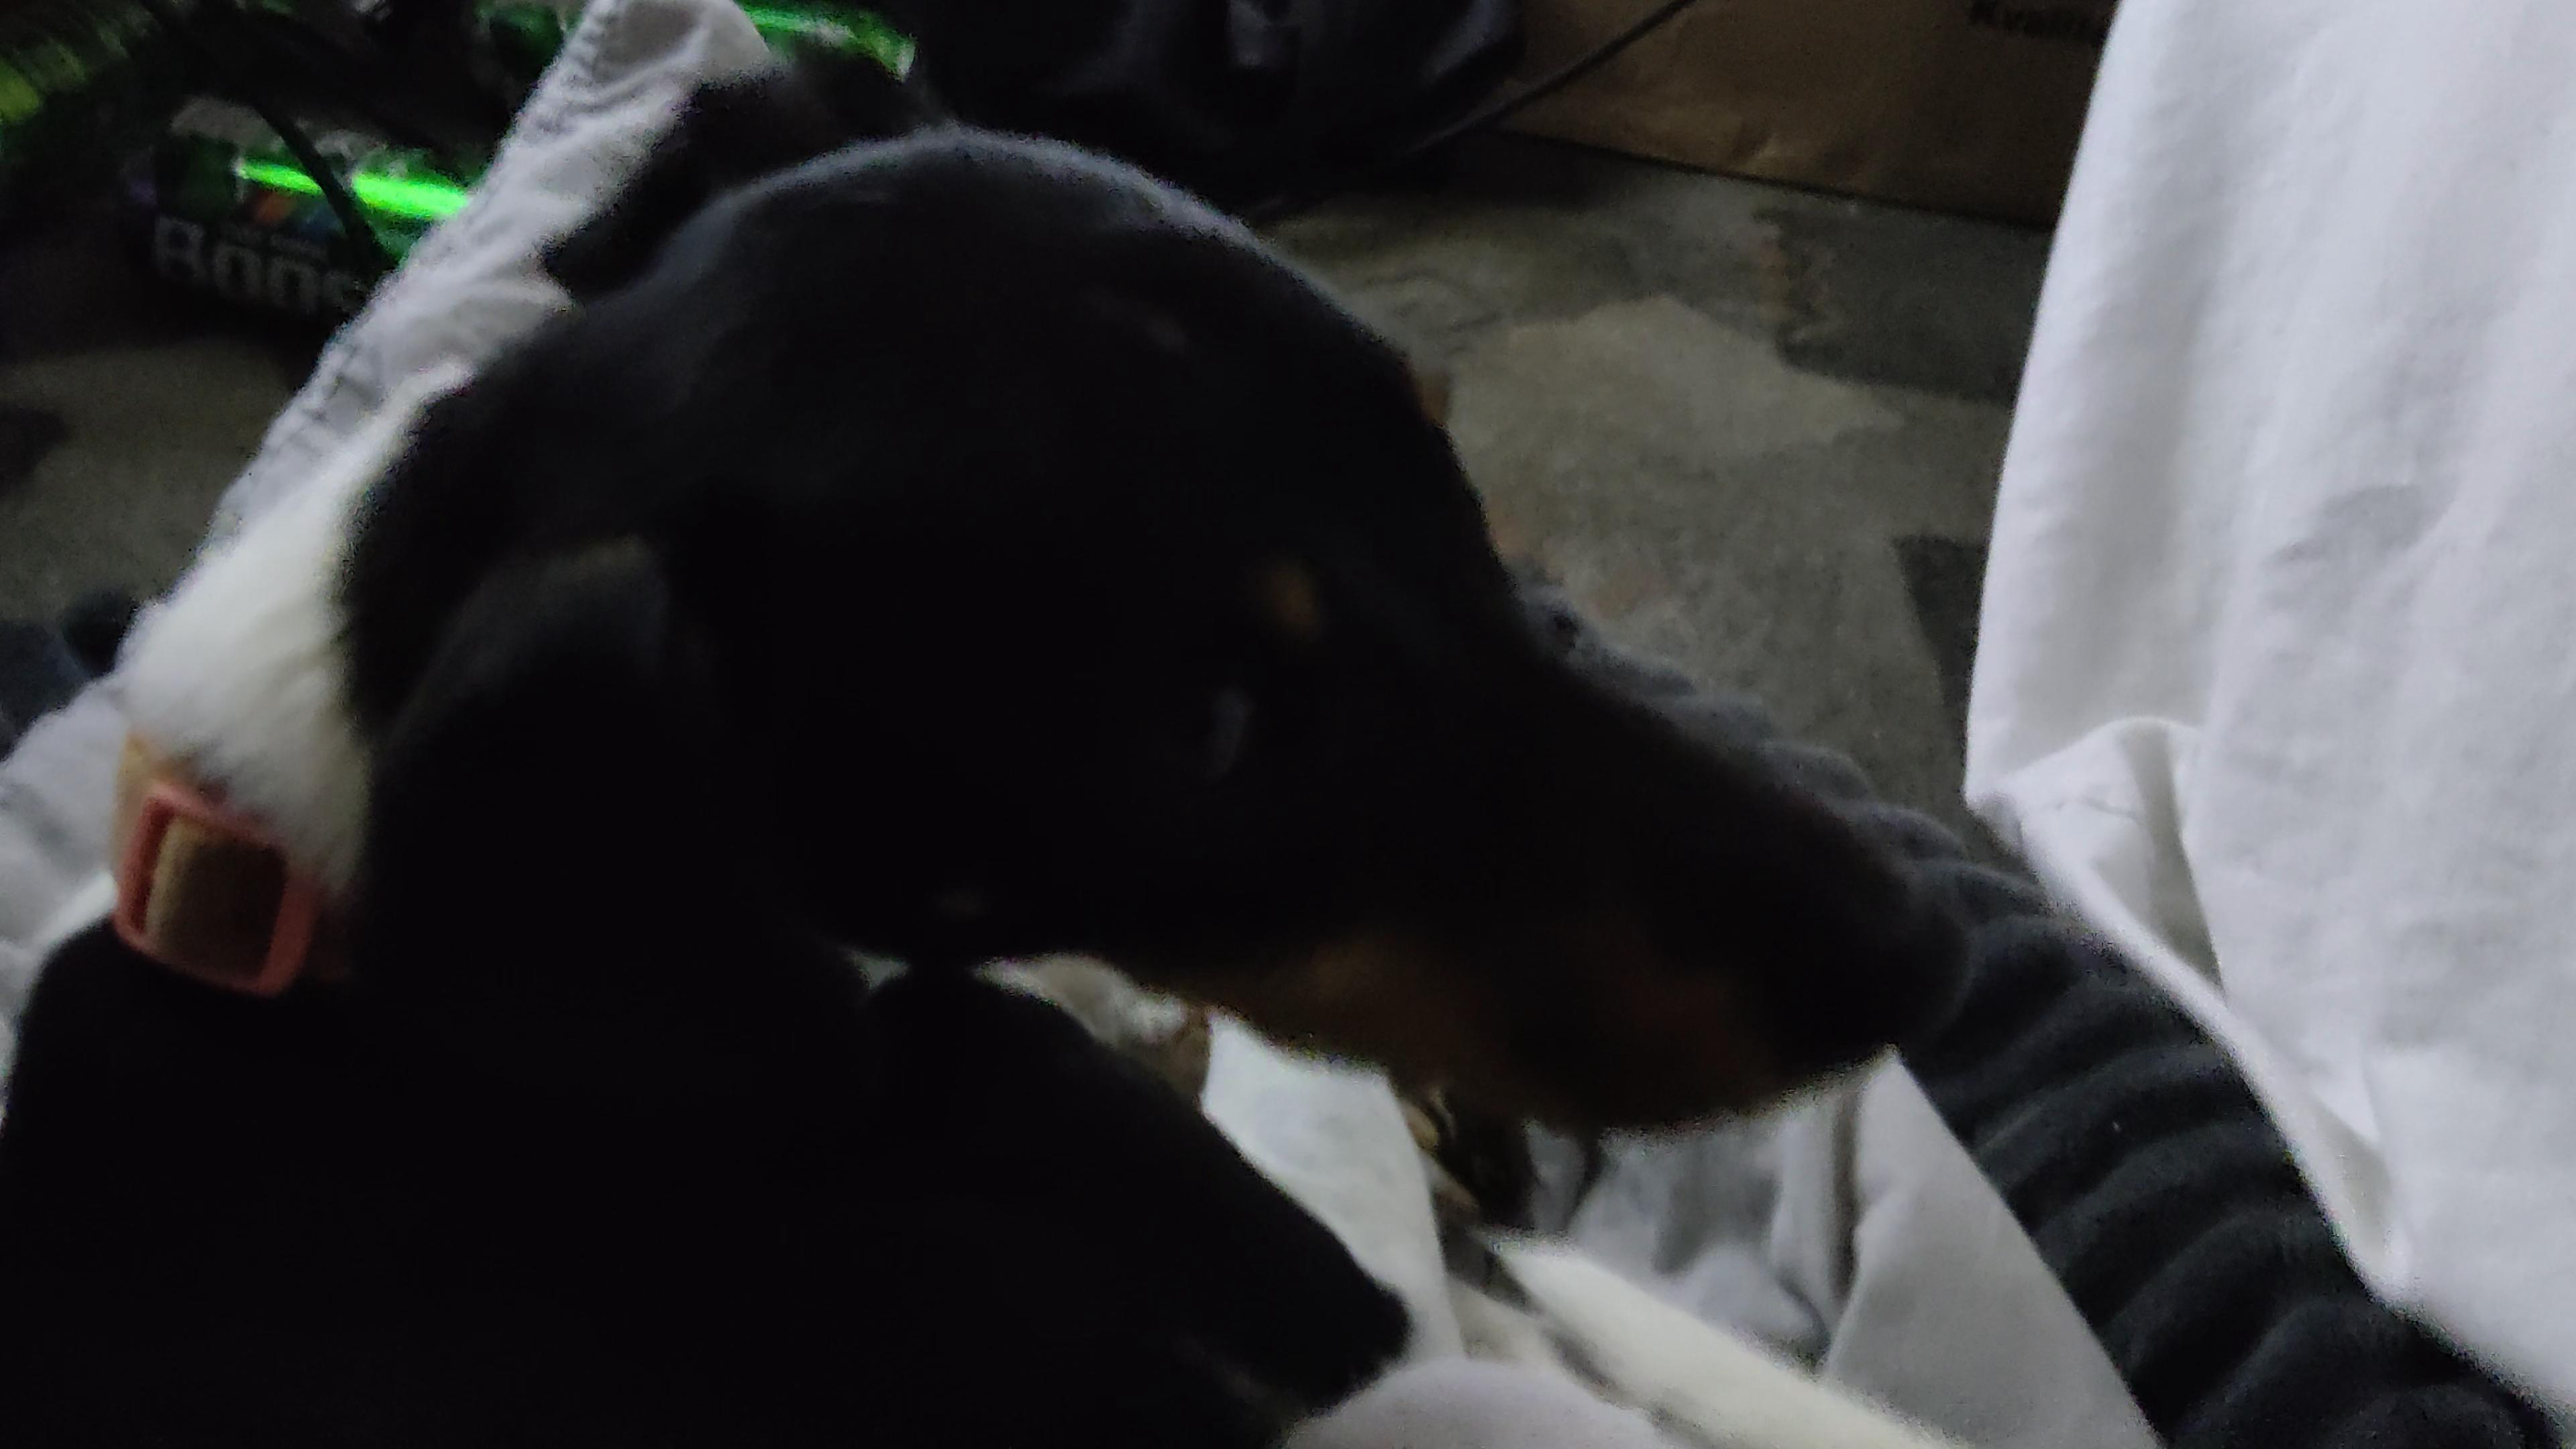Dog: (0, 28, 2001, 1449)
